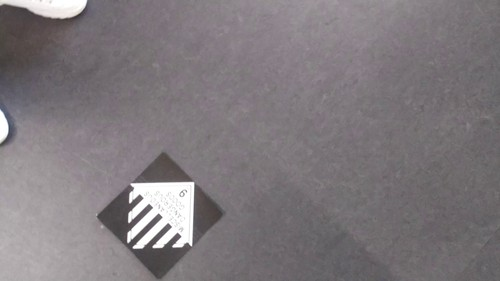misgoods: (115, 174, 204, 250)
